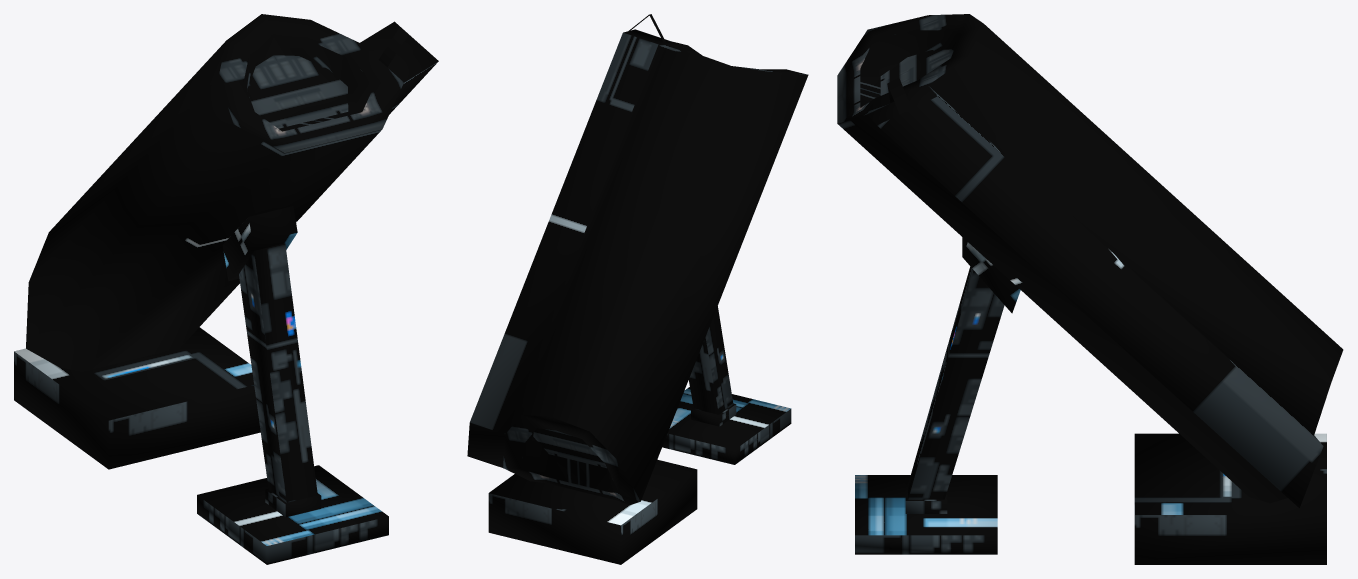
The model's file is ability_developer.obj.
3 renders of one model, left to right at view 1: azimuth 30°, elevation 25°; view 2: azimuth 150°, elevation 25°; view 3: azimuth 270°, elevation 25°, orthographic. The views are drawn at different scales.
Parts seen in each view (by area): view 1: ability_developer; view 2: ability_developer; view 3: ability_developer.
Part boxes in pixels (<box>): ability_developer: <box>14,14,438,564</box>; ability_developer: <box>467,14,808,564</box>; ability_developer: <box>837,14,1343,564</box>.
Bounding box in the file's own units: 1.28 × 2.86 × 2.63.
